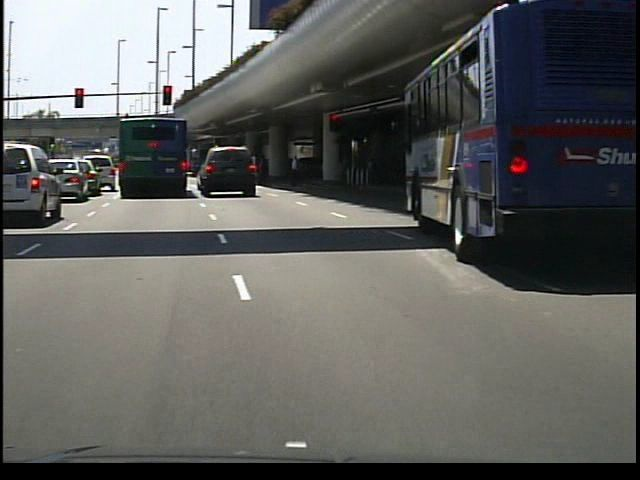person: (284, 151, 304, 188)
